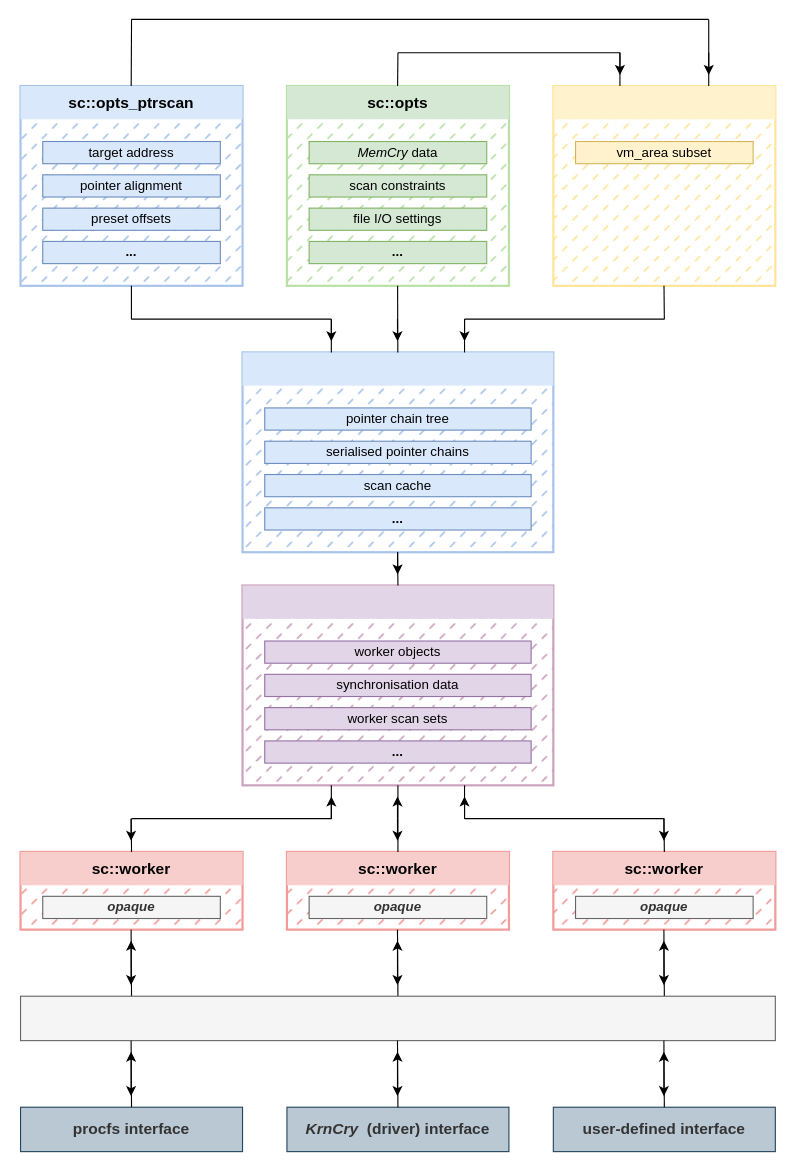
Image size: 795x1171. Some labels were removed from this diagram. The centre of each missing label's shape, as x and y in pixels:
"MemCry virtual interface" belongs at point (397, 1018).
"sc::map_area_set" belongs at point (664, 102).
"sc::ptrscan" belongs at point (397, 368).
"sc::worker_pool" belongs at point (397, 601).
